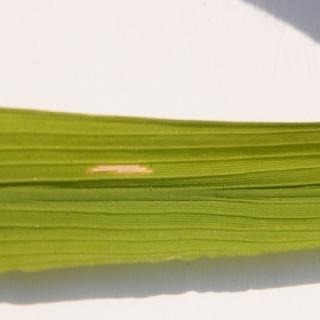Hawar-Daun: (60, 136, 192, 215)
